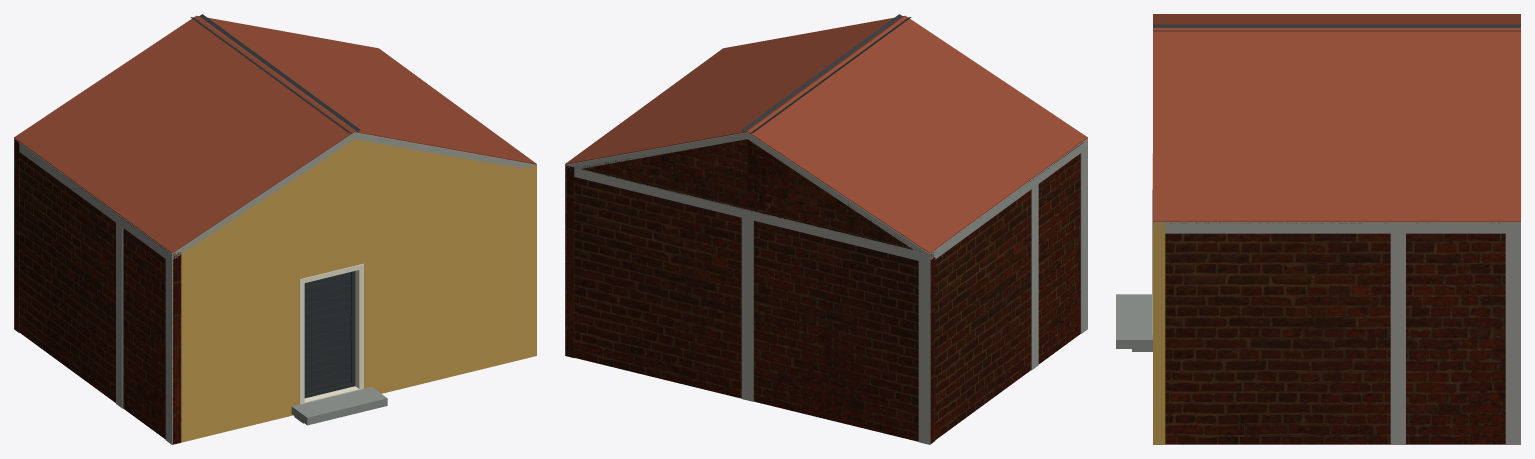
Rendered from building.glb.
3 views of the same model, side by side, from view 1: azimuth 30°, elevation 25°; view 2: azimuth 150°, elevation 25°; view 3: azimuth 270°, elevation 25° (orthographic). The views are drawn at different scales.
Parts seen in each view (by area): view 1: house:0/edge0/z0/house:0/edge0/z0/wall_0_0, roof_assembly/cubierta/roof_cover#0001, house:0/edge3/z0/house:0/edge3/z0/wall_0_0, roof_assembly/cubierta/roof_cover#0002, roof_assembly/cubierta/roof_gable_closure#0001, roof_assembly/cubierta/roof_gable_closure#0004, house:0/edge0/z0/opening_u2.80_v0.12/door_reveal#0001, roof_assembly/cubierta/roof_substrate#0001, site/entrance/0/entrance_step#0002, house:0/edge3/z0/house:0/edge3/z0/beam_0_0, house:0/edge3/z0/house:0/edge3/z0/column_1_0, house:0/edge3/z0/house:0/edge3/z0/column_2_0 (+4 smaller); view 2: house:0/edge2/z0/house:0/edge2/z0/wall_0_0, roof_assembly/cubierta/roof_cover#0001, house:0/edge3/z0/house:0/edge3/z0/wall_0_0, roof_assembly/cubierta/roof_cover#0002, roof_assembly/cubierta/roof_gable_closure#0006, roof_assembly/cubierta/roof_gable_closure#0002, house:0/edge2/z0/house:0/edge2/z0/beam_0_0, roof_assembly/cubierta/roof_substrate#0001, house:0/edge2/z0/house:0/edge2/z0/column_1_0, house:0/edge2/z0/house:0/edge2/z0/column_2_0, house:0/edge1/z0/house:0/edge1/z0/wall_0_0, house:0/edge3/z0/house:0/edge3/z0/column_2_0 (+4 smaller); view 3: roof_assembly/cubierta/roof_cover#0002, house:0/edge1/z0/house:0/edge1/z0/wall_0_0, roof_assembly/cubierta/roof_cover#0001, house:0/edge1/z0/house:0/edge1/z0/beam_0_0, house:0/edge1/z0/house:0/edge1/z0/column_1_0, house:0/edge1/z0/house:0/edge1/z0/column_2_0, house:0/edge0/z0/house:0/edge0/z0/wall_0_0, roof_assembly/cubierta/roof_ridge#0001, site/entrance/0/entrance_step#0002, roof_assembly/cubierta/roof_substrate#0002.
Boxes of the visible parts, <box> form: house:0/edge0/z0/house:0/edge0/z0/wall_0_0: <box>181,165,536,442</box>; roof_assembly/cubierta/roof_cover#0001: <box>14,16,354,253</box>; house:0/edge3/z0/house:0/edge3/z0/wall_0_0: <box>20,152,181,444</box>; roof_assembly/cubierta/roof_cover#0002: <box>197,16,536,164</box>; roof_assembly/cubierta/roof_gable_closure#0001: <box>168,139,354,254</box>; roof_assembly/cubierta/roof_gable_closure#0004: <box>354,139,529,210</box>; house:0/edge0/z0/opening_u2.80_v0.12/door_reveal#0001: <box>299,263,363,404</box>; roof_assembly/cubierta/roof_substrate#0001: <box>14,132,354,259</box>; site/entrance/0/entrance_step#0002: <box>291,386,387,425</box>; house:0/edge3/z0/house:0/edge3/z0/beam_0_0: <box>19,143,172,263</box>; house:0/edge3/z0/house:0/edge3/z0/column_1_0: <box>165,259,172,444</box>; house:0/edge3/z0/house:0/edge3/z0/column_2_0: <box>116,223,123,408</box>; house:0/edge2/z0/house:0/edge2/z0/wall_0_0: <box>574,177,935,444</box>; roof_assembly/cubierta/roof_cover#0001: <box>747,16,1087,253</box>; house:0/edge3/z0/house:0/edge3/z0/wall_0_0: <box>935,153,1080,439</box>; roof_assembly/cubierta/roof_cover#0002: <box>565,16,904,164</box>; roof_assembly/cubierta/roof_gable_closure#0006: <box>576,139,747,209</box>; roof_assembly/cubierta/roof_gable_closure#0002: <box>747,139,920,251</box>; house:0/edge2/z0/house:0/edge2/z0/beam_0_0: <box>574,167,930,263</box>; roof_assembly/cubierta/roof_substrate#0001: <box>747,132,1087,259</box>; house:0/edge2/z0/house:0/edge2/z0/column_1_0: <box>918,261,930,444</box>; house:0/edge2/z0/house:0/edge2/z0/column_2_0: <box>741,218,753,401</box>; house:0/edge1/z0/house:0/edge1/z0/wall_0_0: <box>565,165,574,357</box>; house:0/edge3/z0/house:0/edge3/z0/column_2_0: <box>1031,184,1038,370</box>; roof_assembly/cubierta/roof_cover#0002: <box>1153,28,1520,222</box>; house:0/edge1/z0/house:0/edge1/z0/wall_0_0: <box>1165,233,1505,444</box>; roof_assembly/cubierta/roof_cover#0001: <box>1153,14,1520,27</box>; house:0/edge1/z0/house:0/edge1/z0/beam_0_0: <box>1165,222,1520,233</box>; house:0/edge1/z0/house:0/edge1/z0/column_1_0: <box>1505,233,1520,444</box>; house:0/edge1/z0/house:0/edge1/z0/column_2_0: <box>1390,233,1405,444</box>; house:0/edge0/z0/house:0/edge0/z0/wall_0_0: <box>1153,222,1165,444</box>; roof_assembly/cubierta/roof_ridge#0001: <box>1153,24,1520,31</box>; site/entrance/0/entrance_step#0002: <box>1116,294,1152,348</box>; roof_assembly/cubierta/roof_substrate#0002: <box>1153,222,1520,230</box>.
Size of the model in its own units: 8 by 5.69 by 6.6.
Materials: 7 (1 with a texture image).
